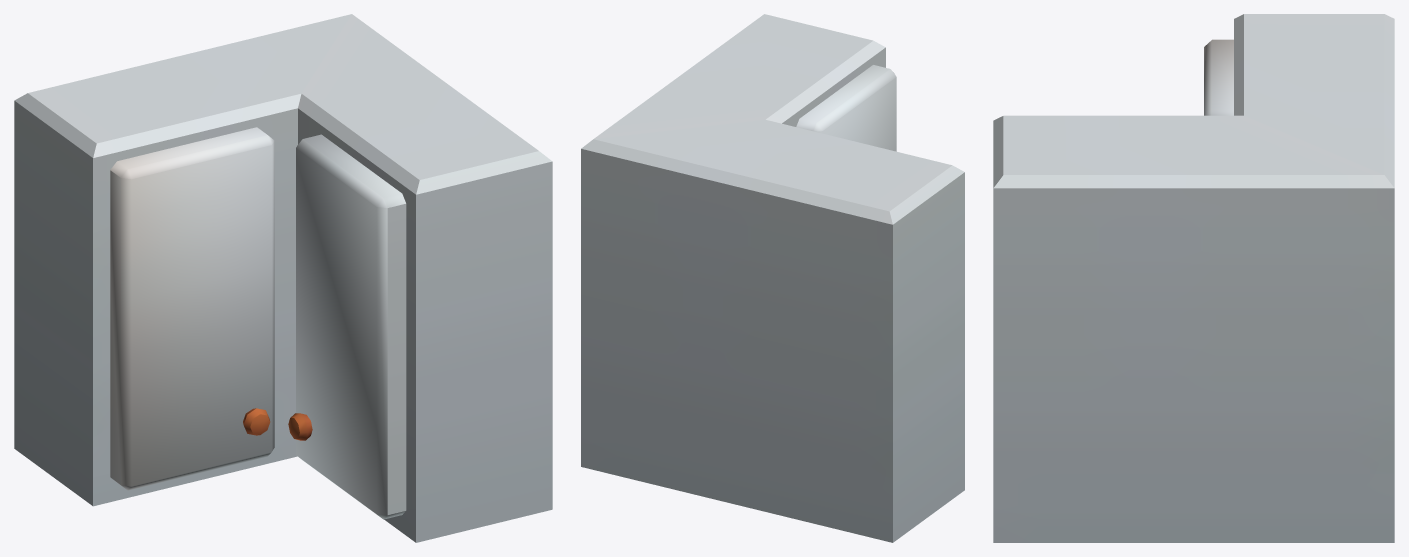
Rendered from kkr.kitchencabinet_corner.glb.
The picture shows the model from 3 angles, left to right: view 1: azimuth 30°, elevation 25°; view 2: azimuth 150°, elevation 25°; view 3: azimuth 270°, elevation 25°; orthographic projection. The views are drawn at different scales.
Parts seen in each view (by area): view 1: kitchencabinet_corner; view 2: kitchencabinet_corner; view 3: kitchencabinet_corner.
Boxes of the visible parts, x1,y1,x2,y2 form: kitchencabinet_corner: [14, 14, 552, 542]; kitchencabinet_corner: [581, 14, 964, 542]; kitchencabinet_corner: [993, 14, 1394, 542].
Bounding box in the file's own units: 1.49 × 1.49 × 1.49.
1 material, 1 textured.
